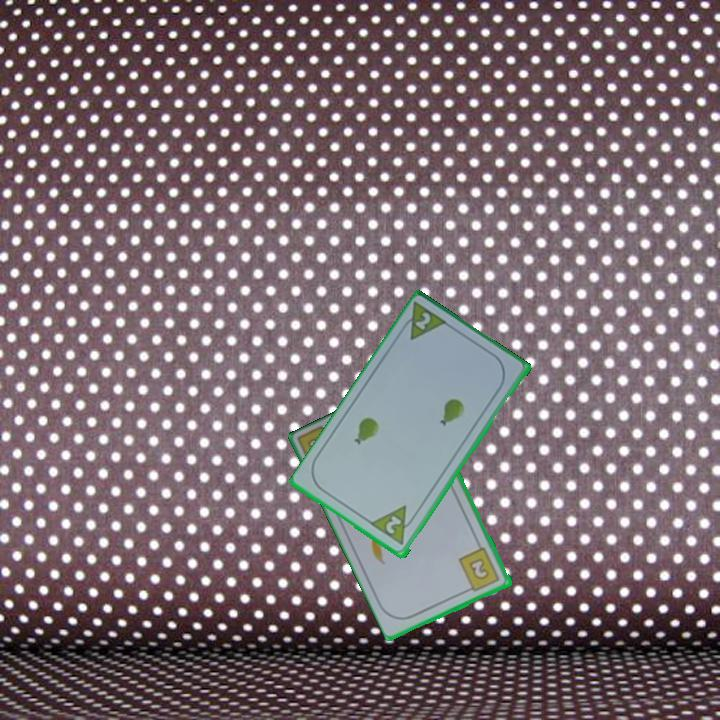2b: (455, 544, 503, 595)
2p: (382, 512, 405, 537), (411, 309, 434, 333)
